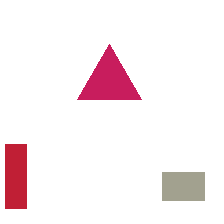rectangle: (5, 144, 26, 208), (162, 172, 204, 200)
triangle: (77, 44, 141, 99)
